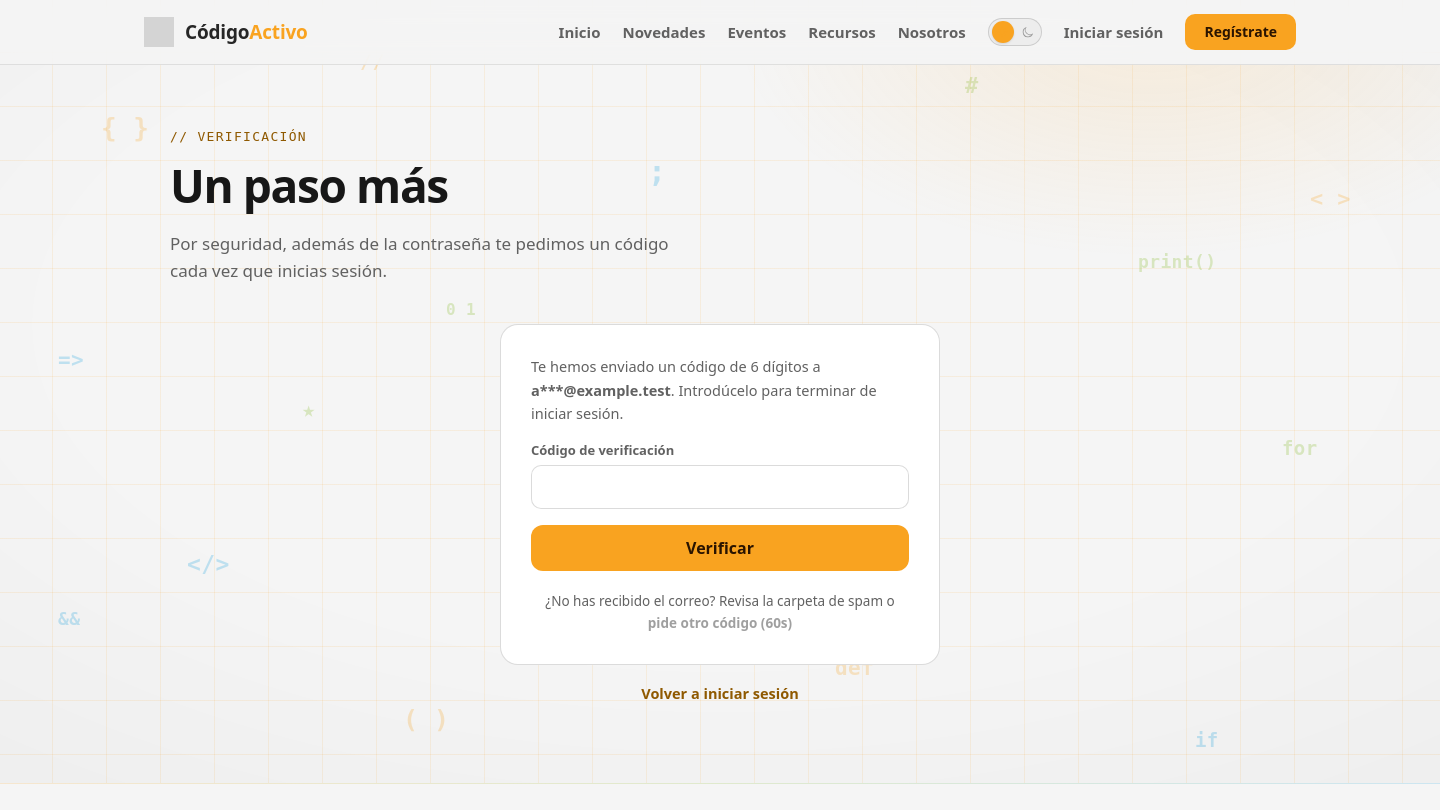
Scenario: two-factor login page › shows the wrong-code error and keeps the form
The width and height of the screenshot is (1440, 810).
Type "000000" into the field with id "two-factor-code".
click(720, 487); type("000000")  # box [545,466,895,508]
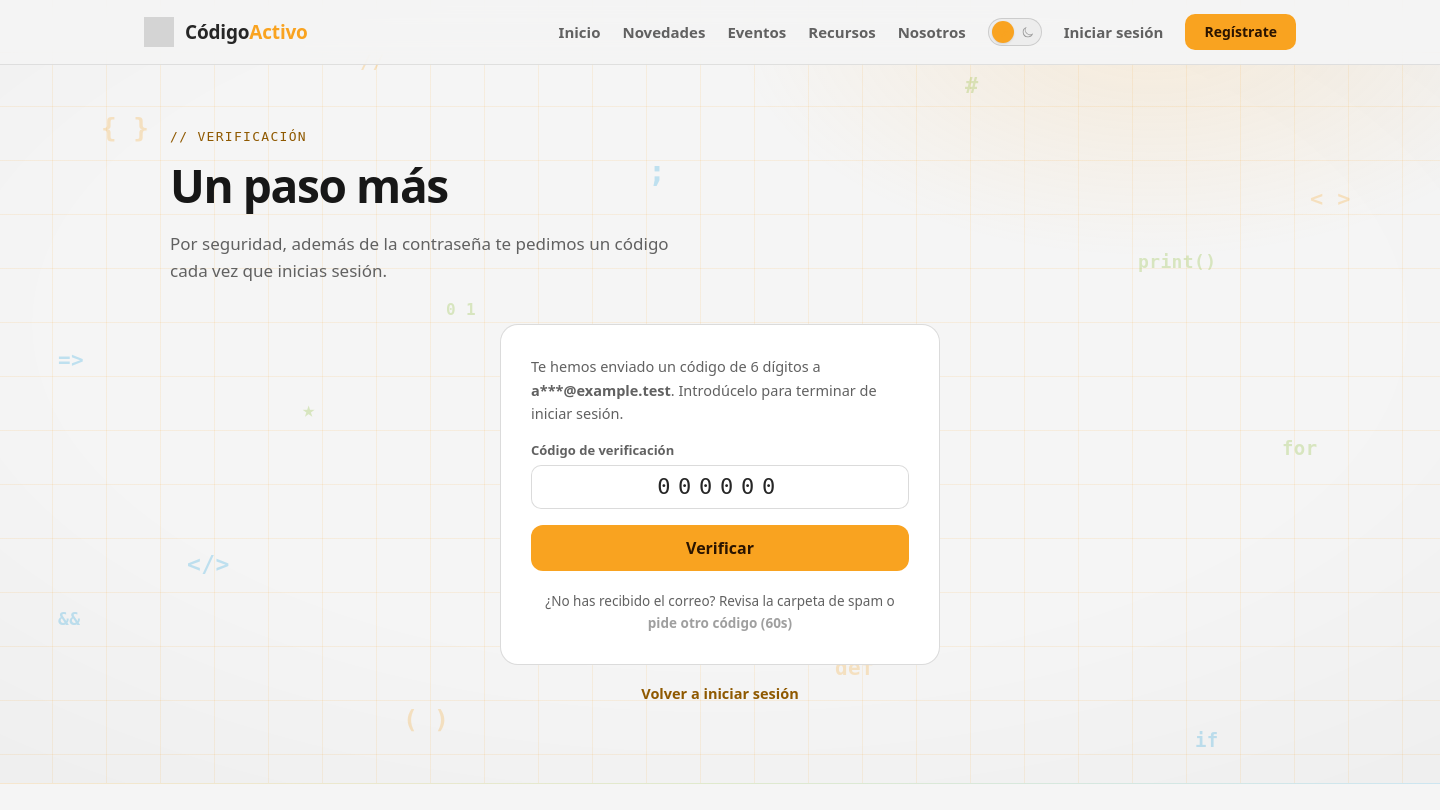
Submit the form, box [500,324,940,665]
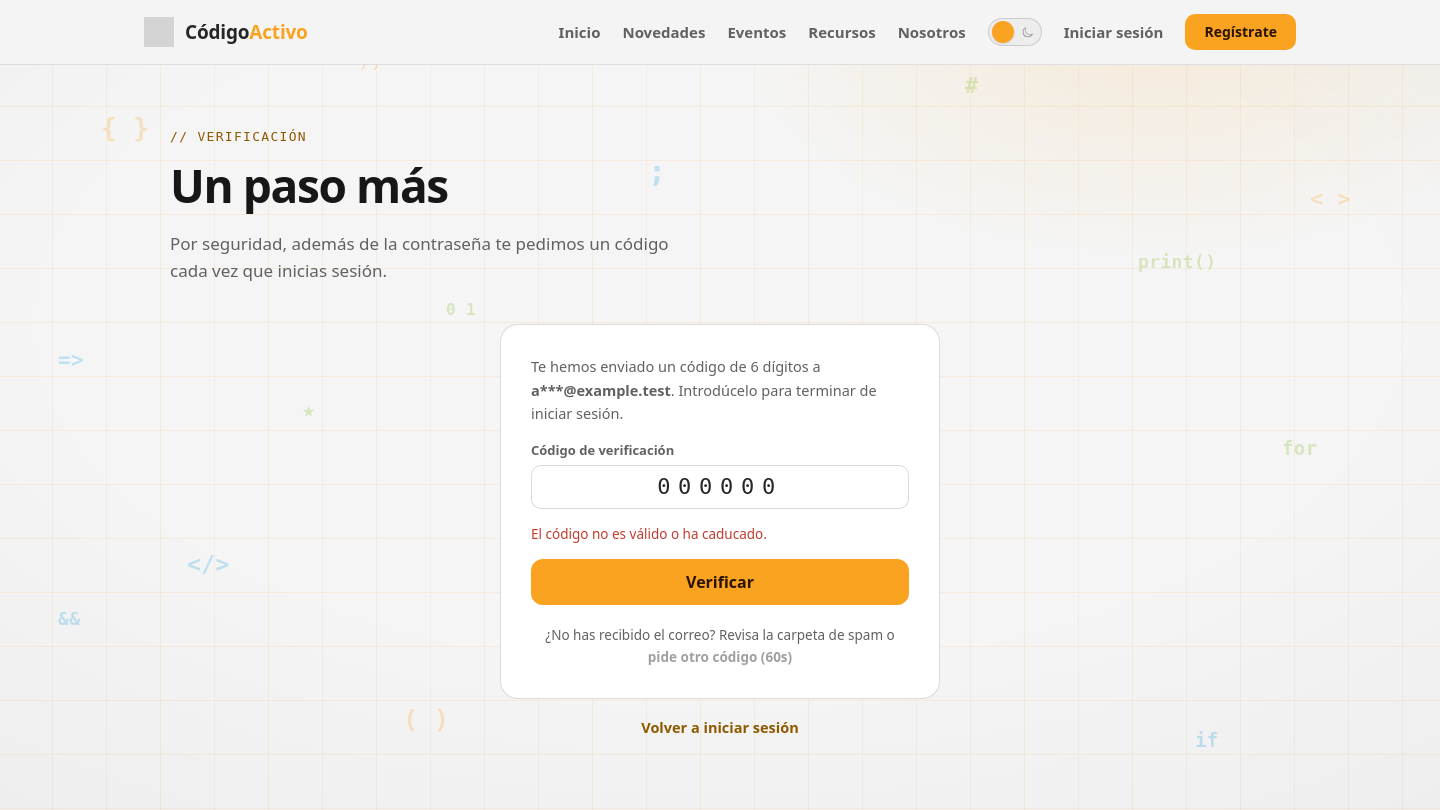
Now the message "El código no es válido o ha caducado." is shown, box [531,525,767,543]
